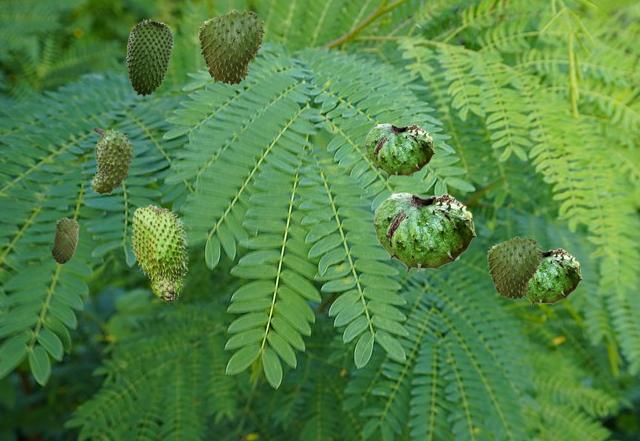guyabano: (372, 192, 475, 273), (130, 204, 188, 303), (198, 9, 265, 86), (364, 123, 434, 178), (126, 19, 172, 96), (487, 236, 542, 300), (524, 247, 581, 306), (89, 127, 135, 195), (51, 217, 78, 263)
